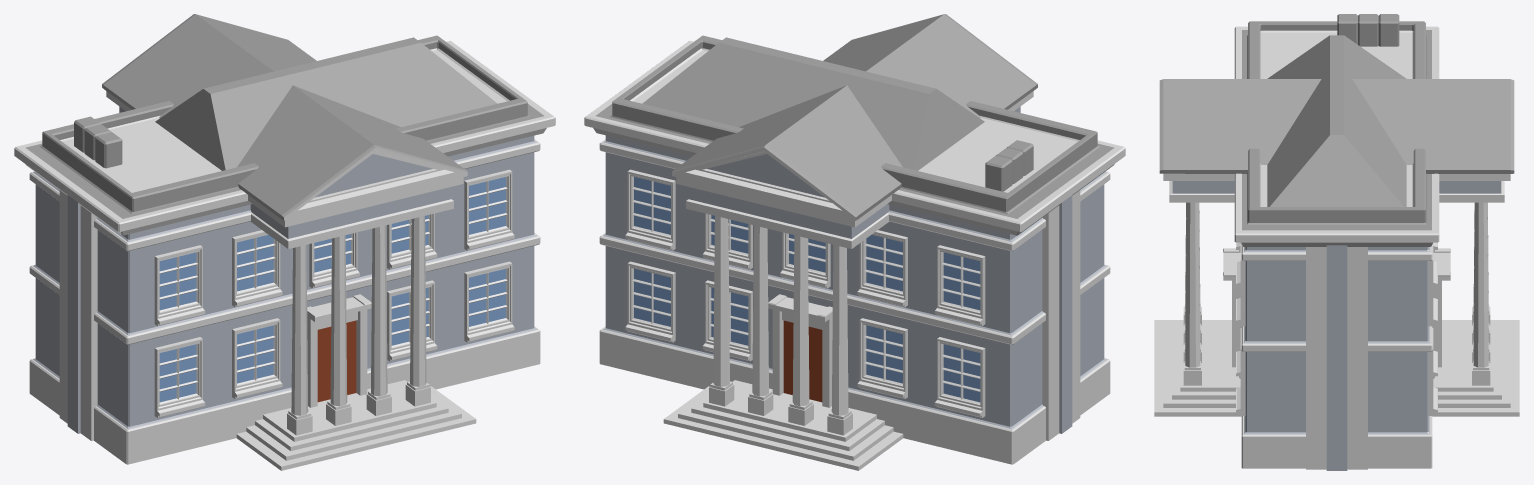
Rendered from CourtHouse.fbx.
The picture shows the model from 3 angles, left to right: view 1: azimuth 30°, elevation 25°; view 2: azimuth 150°, elevation 25°; view 3: azimuth 270°, elevation 25°; orthographic projection. The views are drawn at different scales.
Visible parts, largest first — view 1: building.001; view 2: building.001; view 3: building.001.
Part boxes in pixels (x1,y1,x2,y2): building.001: (14,14,555,470); building.001: (584,14,1125,470); building.001: (1154,14,1519,470).
Bounding box in the file's own units: 538 × 360 × 400.
